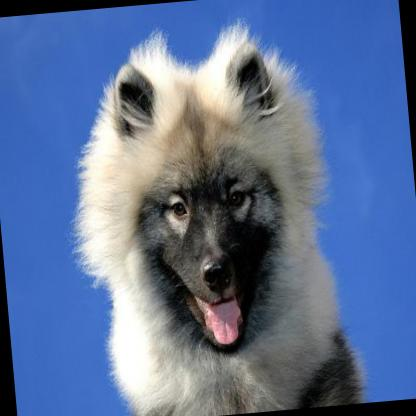keeshond: (58, 6, 375, 416)
